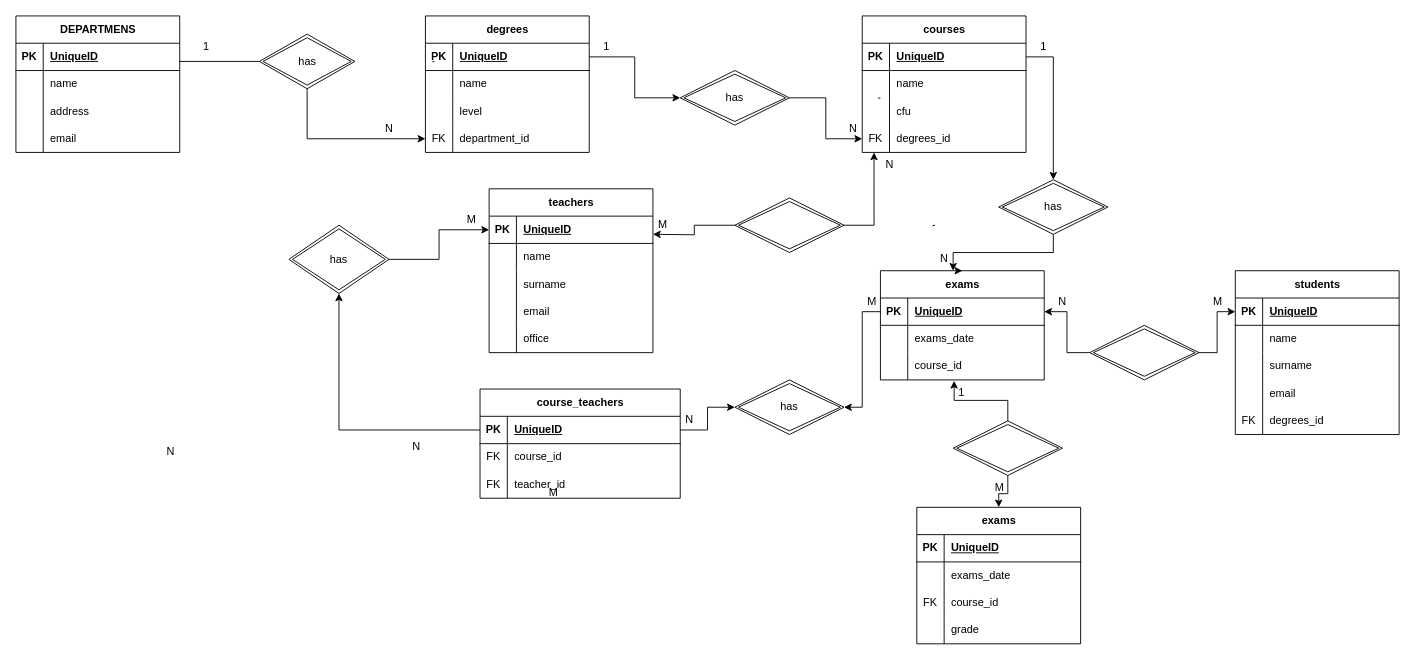
Image size: 1415x660. Some labels were removed from this diagram. Here are the shapes that lost their labels. From the top down, the centre of each, then its label:
point 789,225: get
point 1144,352: do
point 1007,447: Relationship
